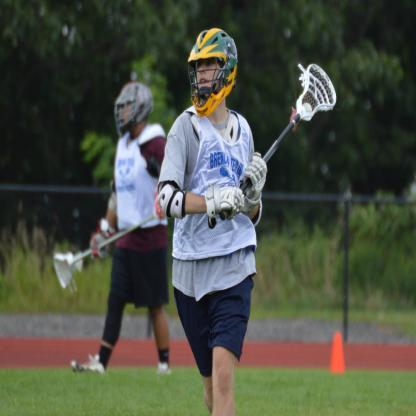Helmet: (187, 26, 238, 116), (115, 84, 154, 135)
